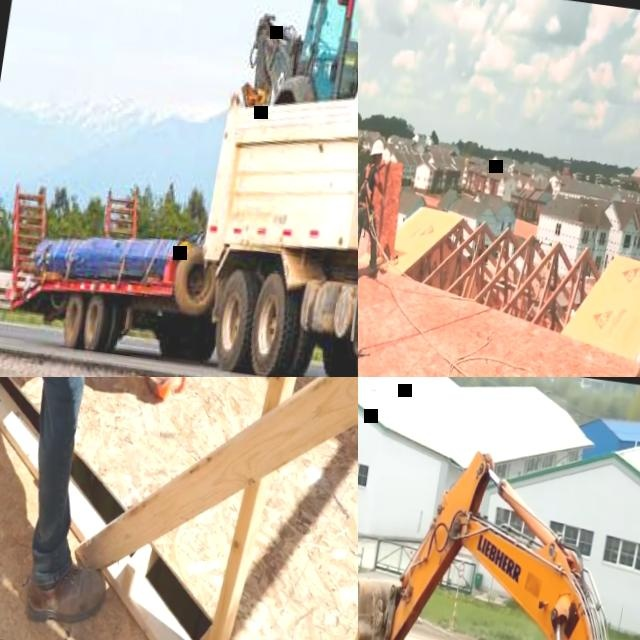Hardhat: (370, 139, 386, 160)
NO-Mask: (376, 158, 382, 166)
NO-Safety Vest: (359, 163, 378, 205)
Person: (0, 377, 226, 630), (358, 138, 397, 288)
machinery: (188, 14, 358, 377), (358, 430, 640, 640), (237, 0, 358, 151)
